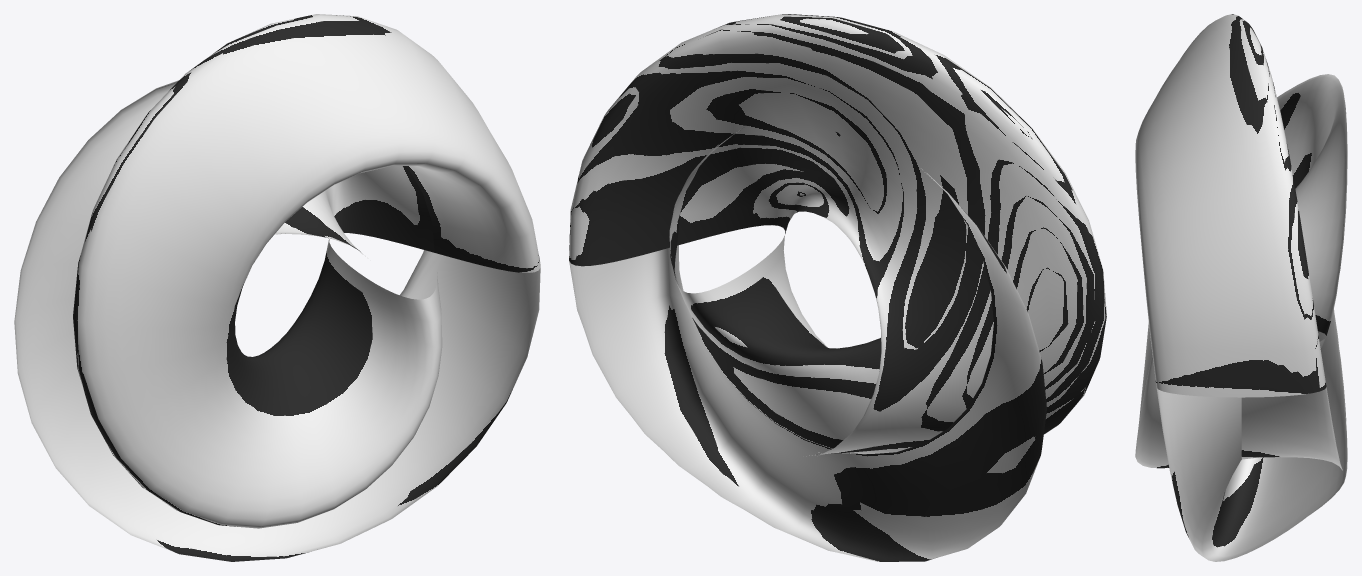
The model's file is klein_bottle_cgal_authalic_result.glb.
3 views of the same model, side by side, from view 1: azimuth 30°, elevation 25°; view 2: azimuth 150°, elevation 25°; view 3: azimuth 270°, elevation 25° (orthographic). The views are drawn at different scales.
Visible parts, largest first — view 1: parameterized; view 2: parameterized; view 3: parameterized.
Boxes of the visible parts, bbox=[...] form: parameterized: bbox=[14, 14, 540, 561]; parameterized: bbox=[569, 14, 1106, 561]; parameterized: bbox=[1135, 14, 1347, 561].
Size of the model in its own units: 300 by 324 by 125.
Materials: 1 (1 with a texture image).
